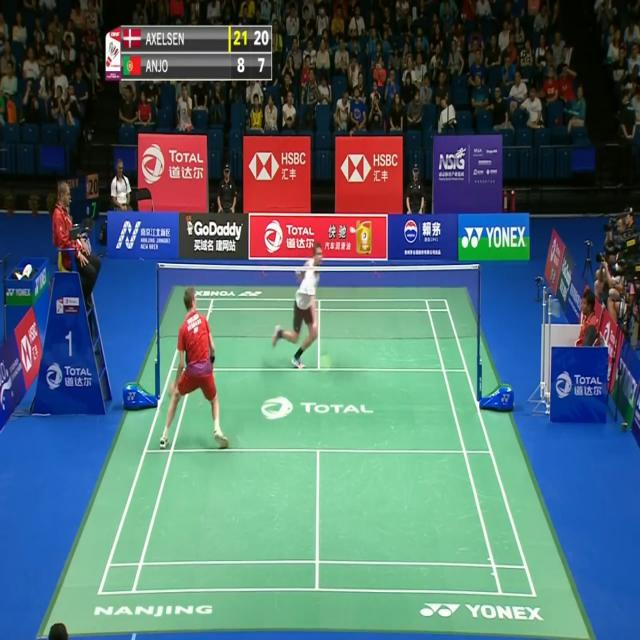Player1: (158, 282, 232, 455)
Player2: (270, 236, 335, 384)
